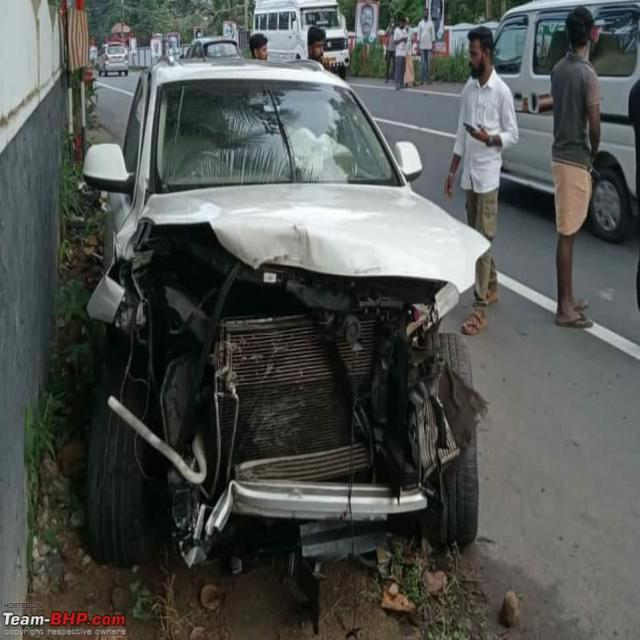accident: (84, 60, 488, 566)
bus: (254, 0, 350, 75)
car: (494, 0, 640, 241)
